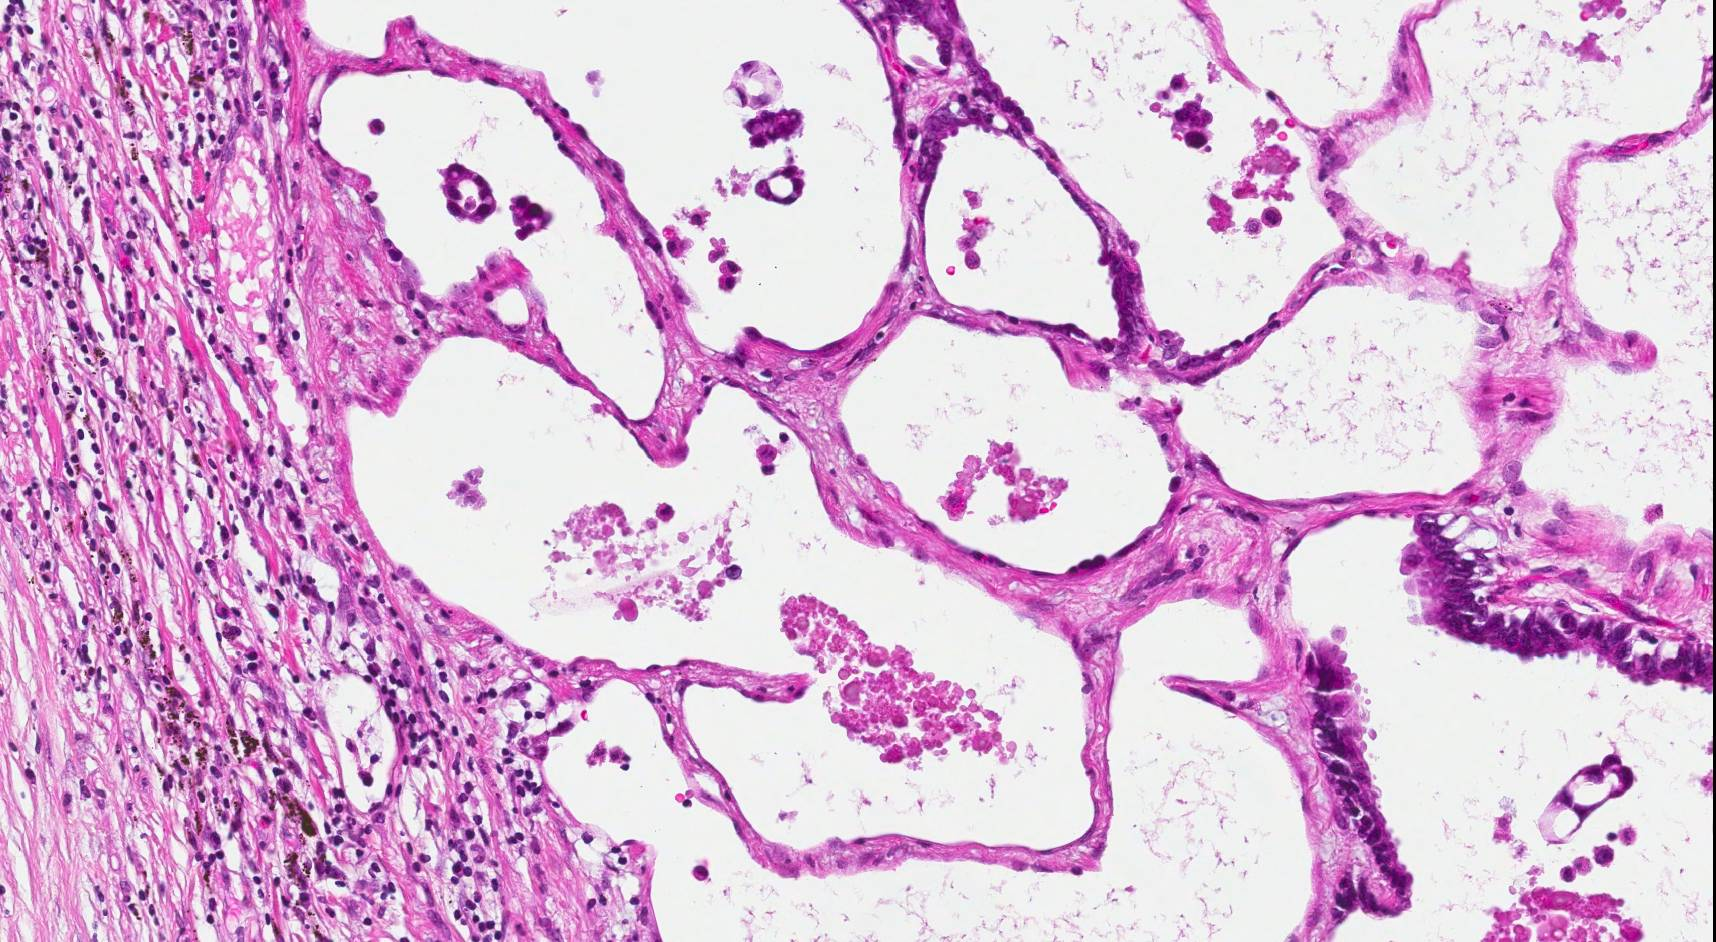stas: (1540, 750, 1639, 848), (438, 161, 501, 223), (1166, 95, 1220, 154), (723, 57, 783, 109), (505, 191, 557, 241), (741, 109, 805, 147), (753, 163, 809, 207)
